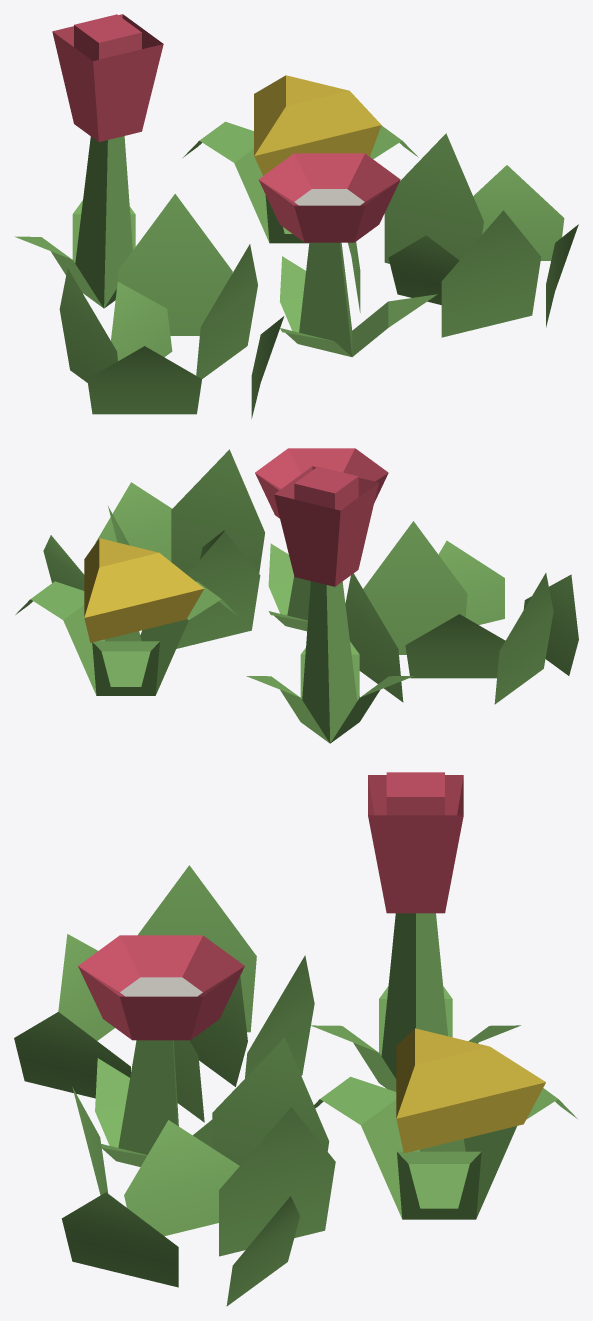
Rendered from flowers.glb.
3 renders of one model, top to bottom at view 1: azimuth 30°, elevation 25°; view 2: azimuth 150°, elevation 25°; view 3: azimuth 270°, elevation 25°, orthographic. The views are drawn at different scales.
Visible parts, largest first — view 1: flowers; view 2: flowers; view 3: flowers.
Boxes of the visible parts, x1,y1,x2,y2 form: flowers: (15,14,578,418); flowers: (15,448,578,743); flowers: (14,772,577,1306).
Size of the model in its own units: 0.6069 by 0.2925 by 0.4835.
